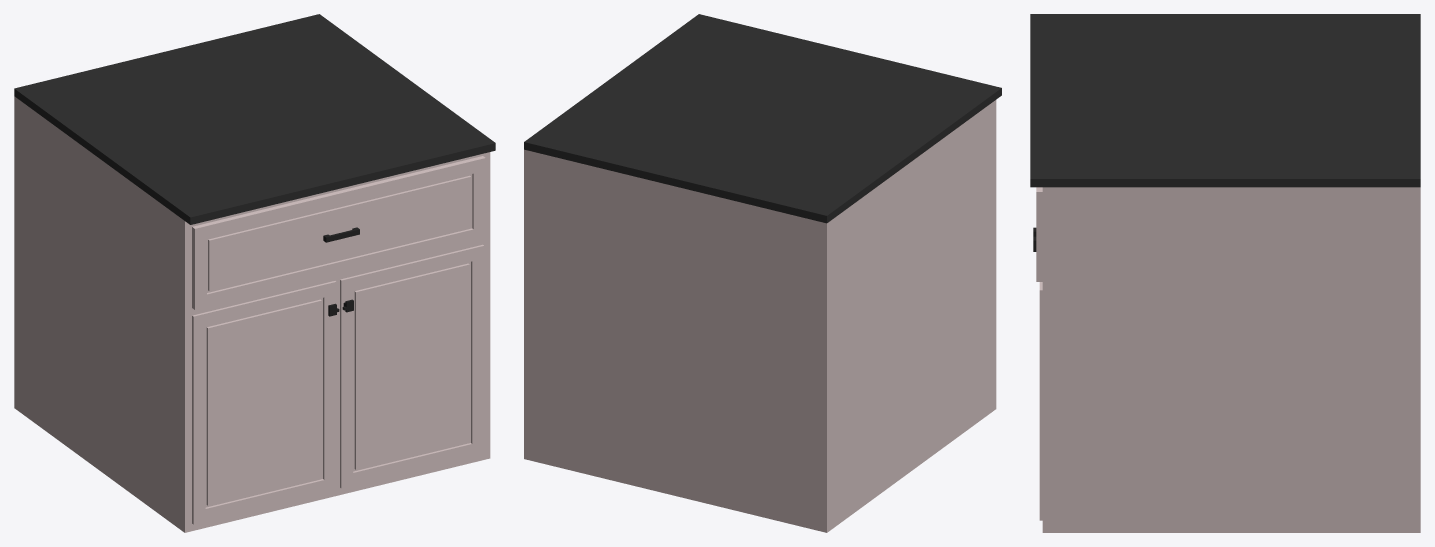
Rendered from cupboard1.obj.
3 renders of one model, left to right at view 1: azimuth 30°, elevation 25°; view 2: azimuth 150°, elevation 25°; view 3: azimuth 270°, elevation 25°, orthographic. The views are drawn at different scales.
Bounding box in the file's own units: 12.6 × 12.6 × 12.6.
Materials: 1 (1 with a texture image).
